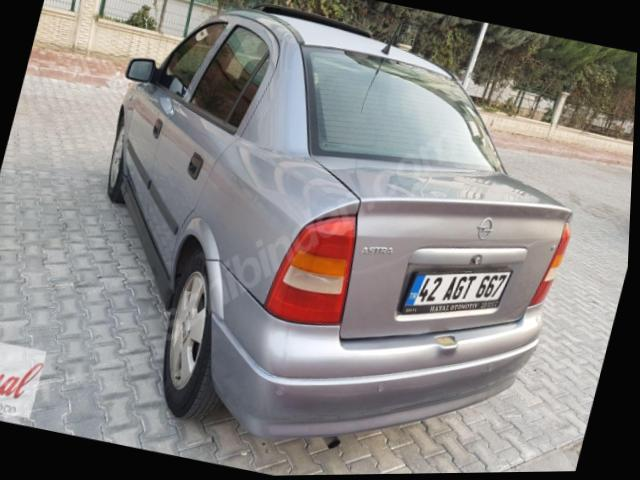plaka: (399, 270, 511, 314)
